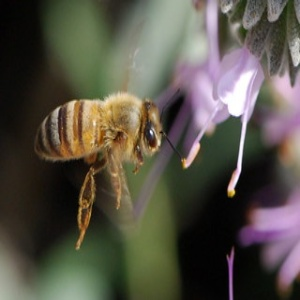bee: (32, 93, 186, 257)
